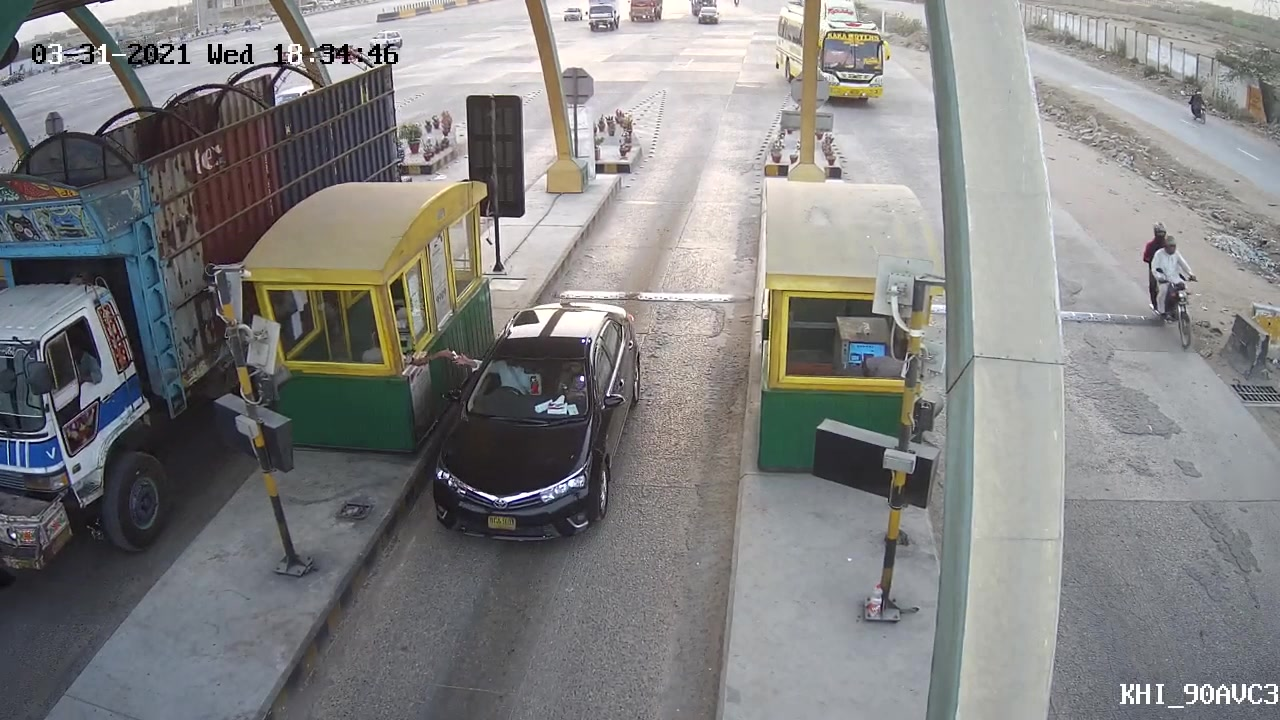F1: (420, 296, 642, 549)
